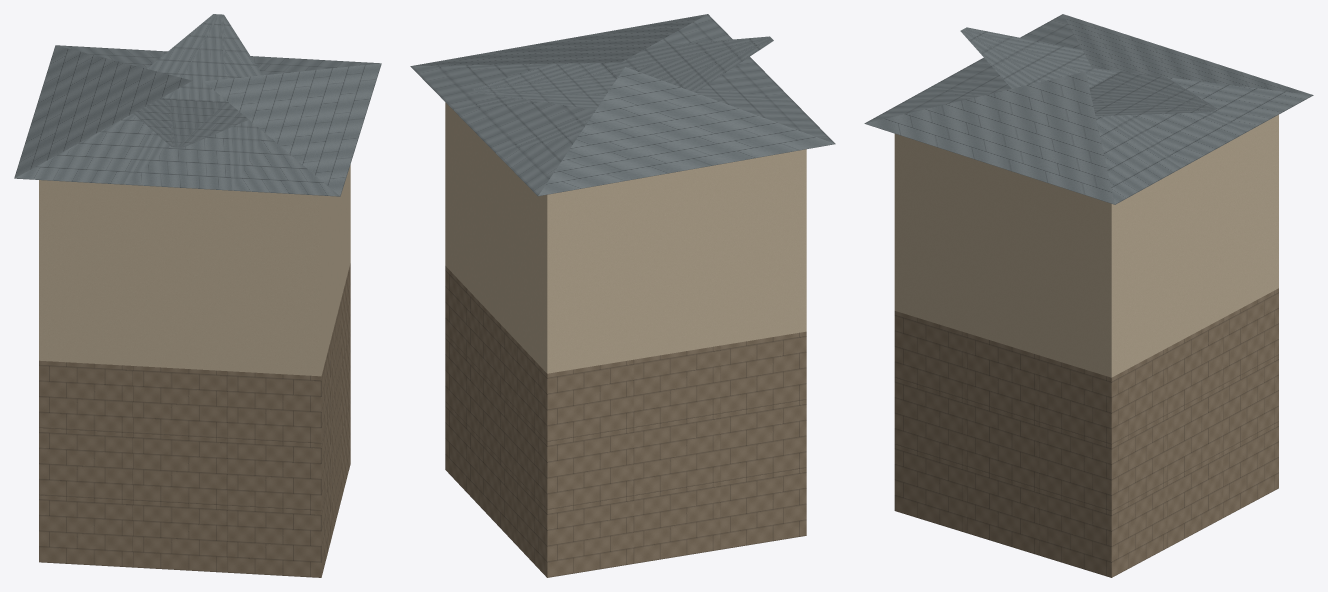
The model's file is bld_c4_26_476.gltf.
3 renders of one model, left to right at view 1: azimuth 30°, elevation 25°; view 2: azimuth 150°, elevation 25°; view 3: azimuth 270°, elevation 25°, orthographic.
Visible parts, largest first — view 1: bld_c4_26_476; view 2: bld_c4_26_476; view 3: bld_c4_26_476.
Part boxes in pixels (x1,y1,x2,y2): bld_c4_26_476: [14, 14, 381, 577]; bld_c4_26_476: [410, 14, 835, 577]; bld_c4_26_476: [864, 14, 1313, 577].
Size of the model in its own units: 10.32 by 10.8 by 10.27.
Materials: 3 (3 with a texture image).
